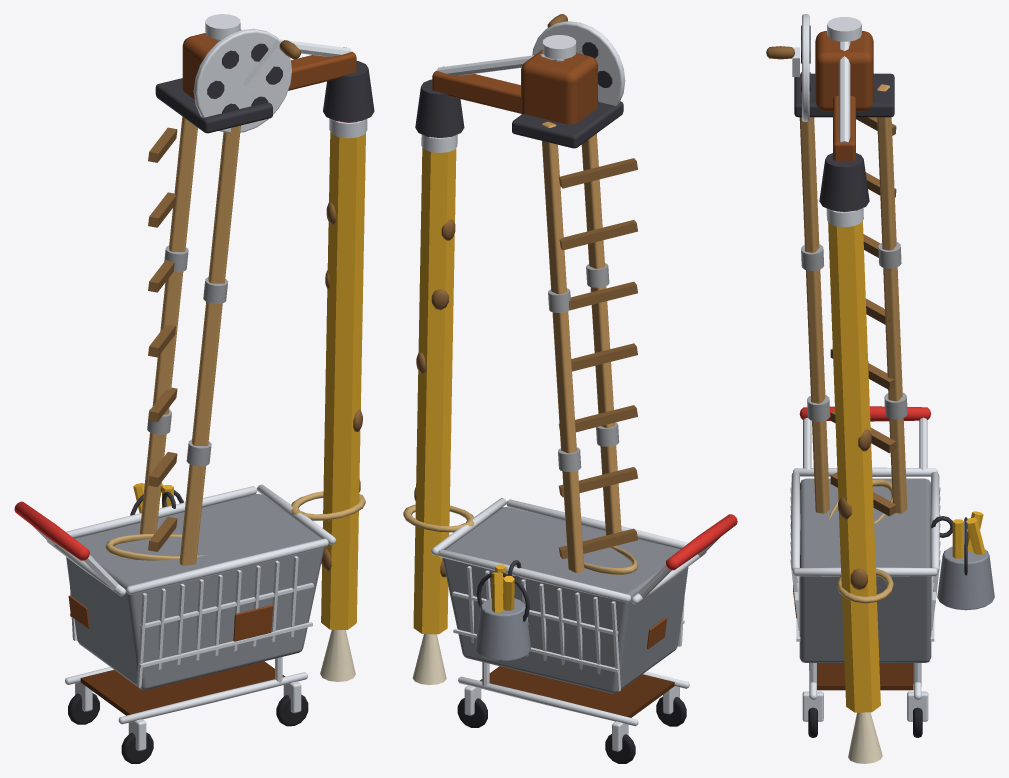
The model's file is vehicle_drill_rig_t1.glb.
The picture shows the model from 3 angles, left to right: view 1: azimuth 30°, elevation 25°; view 2: azimuth 150°, elevation 25°; view 3: azimuth 270°, elevation 25°; orthographic projection. The views are drawn at different scales.
Parts seen in each view (by area): view 1: Basket.Tub, Mast.Pencil.Shaft, Mast.Rail, Mast.Rail.001, Mast.Gear, Chassis.Shelf, Mast.Rung, Basket.Wire, Mast.Clamp, Mast.Chuck, Basket.Rim, Mast.Arm (+17 smaller); view 2: Basket.Tub, Mast.Pencil.Shaft, Mast.Rail.001, Mast.Rung, Mast.Housing, Mast.Rail, Chassis.Shelf, Bucket.Body, Basket.Wire.001, Mast.Clamp, Mast.Gear, Mast.Arm (+13 smaller); view 3: Mast.Pencil.Shaft, Basket.Tub, Mast.Rail, Mast.Rail.001, Mast.Housing, Bucket.Body, Mast.Rung, Mast.Chuck, Mast.Clamp, Chassis.Shelf, Mast.Pencil.Cone, Mast.Belt (+20 smaller).
Part boxes in pixels (x1=…): Basket.Tub: x1=66, y1=494, x2=324, y2=689; Mast.Pencil.Shaft: x1=321, y1=132, x2=365, y2=629; Mast.Rail: x1=179, y1=125, x2=240, y2=565; Mast.Rail.001: x1=139, y1=116, x2=197, y2=534; Mast.Gear: x1=193, y1=28, x2=291, y2=132; Chassis.Shelf: x1=80, y1=661, x2=284, y2=715; Mast.Rung: x1=148, y1=127, x2=177, y2=551; Basket.Wire: x1=137, y1=556, x2=298, y2=687; Mast.Clamp: x1=155, y1=78, x2=272, y2=133; Mast.Chuck: x1=323, y1=61, x2=374, y2=122; Basket.Rim: x1=126, y1=538, x2=328, y2=594; Mast.Arm: x1=288, y1=47, x2=356, y2=90; Basket.Tub: x1=442, y1=507, x2=688, y2=693; Mast.Pencil.Shaft: x1=413, y1=147, x2=456, y2=634; Mast.Rail.001: x1=542, y1=121, x2=584, y2=572; Mast.Rung: x1=558, y1=158, x2=637, y2=558; Mast.Housing: x1=521, y1=50, x2=597, y2=124; Mast.Rail: x1=581, y1=133, x2=621, y2=535; Chassis.Shelf: x1=480, y1=666, x2=674, y2=717; Bucket.Body: x1=475, y1=598, x2=531, y2=660; Basket.Wire.001: x1=467, y1=566, x2=620, y2=691; Mast.Clamp: x1=512, y1=101, x2=623, y2=148; Mast.Gear: x1=532, y1=21, x2=625, y2=105; Mast.Arm: x1=432, y1=66, x2=521, y2=113; Mast.Pencil.Shaft: x1=828, y1=221, x2=880, y2=712; Basket.Tub: x1=799, y1=478, x2=931, y2=662; Mast.Rail: x1=799, y1=117, x2=829, y2=513; Mast.Rail.001: x1=877, y1=84, x2=907, y2=513; Mast.Housing: x1=815, y1=31, x2=873, y2=111; Bucket.Body: x1=937, y1=544, x2=994, y2=610; Mast.Rung: x1=830, y1=117, x2=896, y2=516; Mast.Chuck: x1=819, y1=153, x2=869, y2=211; Mast.Clamp: x1=794, y1=73, x2=894, y2=117; Chassis.Shelf: x1=817, y1=663, x2=913, y2=690; Mast.Pencil.Cone: x1=848, y1=712, x2=882, y2=763; Mast.Belt: x1=838, y1=41, x2=850, y2=142.
Size of the model in its own units: 1.84 by 3.95 by 1.18.
